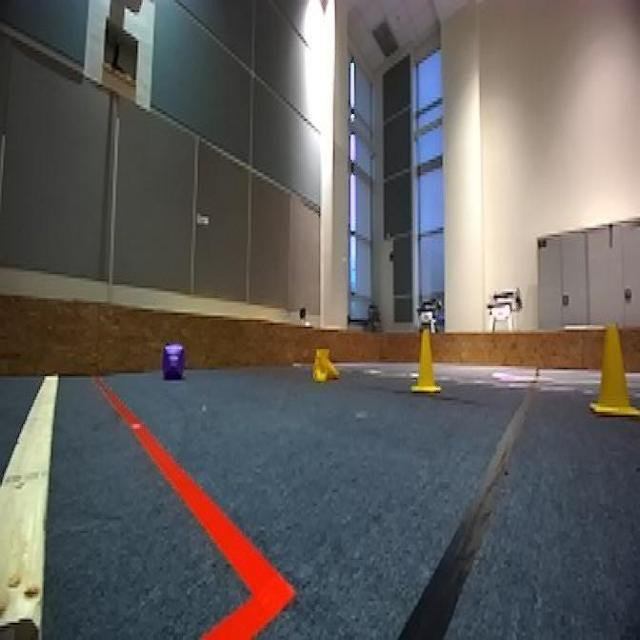frc_cone: (590, 325, 634, 417), (409, 325, 443, 395), (311, 347, 343, 383)
frc_cube: (161, 340, 186, 380)
